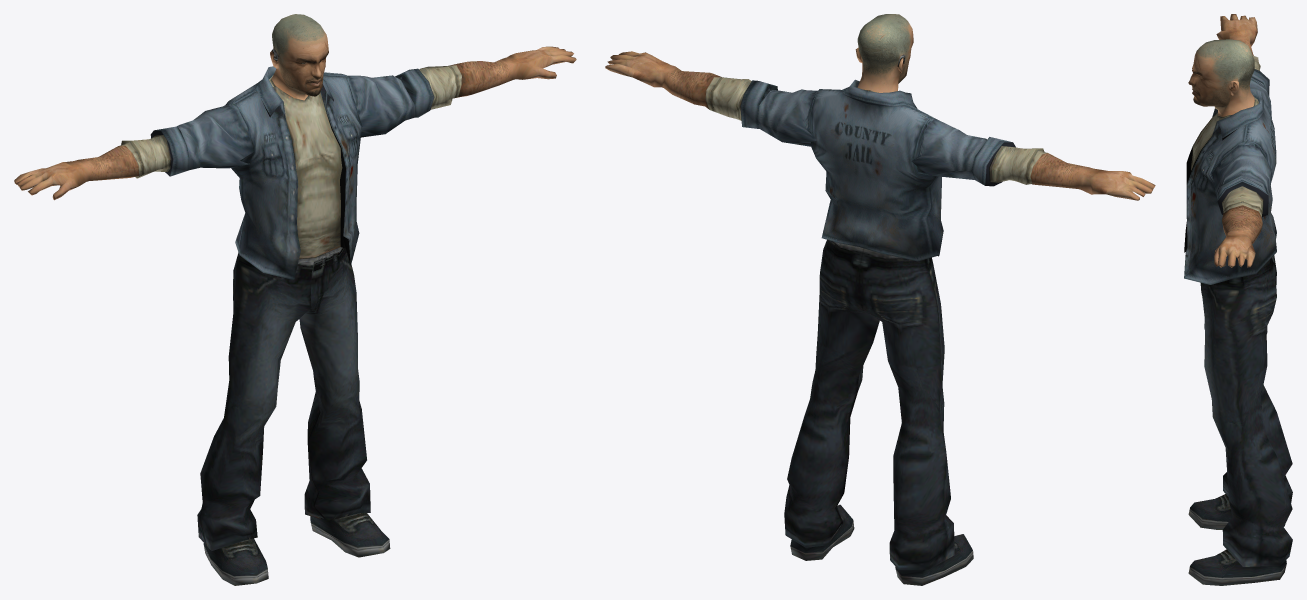
Rendered from adam.fbx.
3 views of the same model, side by side, from view 1: azimuth 30°, elevation 25°; view 2: azimuth 150°, elevation 25°; view 3: azimuth 270°, elevation 25° (orthographic). The views are drawn at different scales.
Visible parts, largest first — view 1: 2; view 2: 2; view 3: 2.
Boxes of the visible parts, <box> form: 2: <box>14,14,576,585</box>; 2: <box>605,14,1155,585</box>; 2: <box>1184,14,1292,585</box>.
Bounding box in the file's own units: 247 × 232 × 45.
